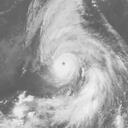cyclone: (45, 48, 80, 85)
